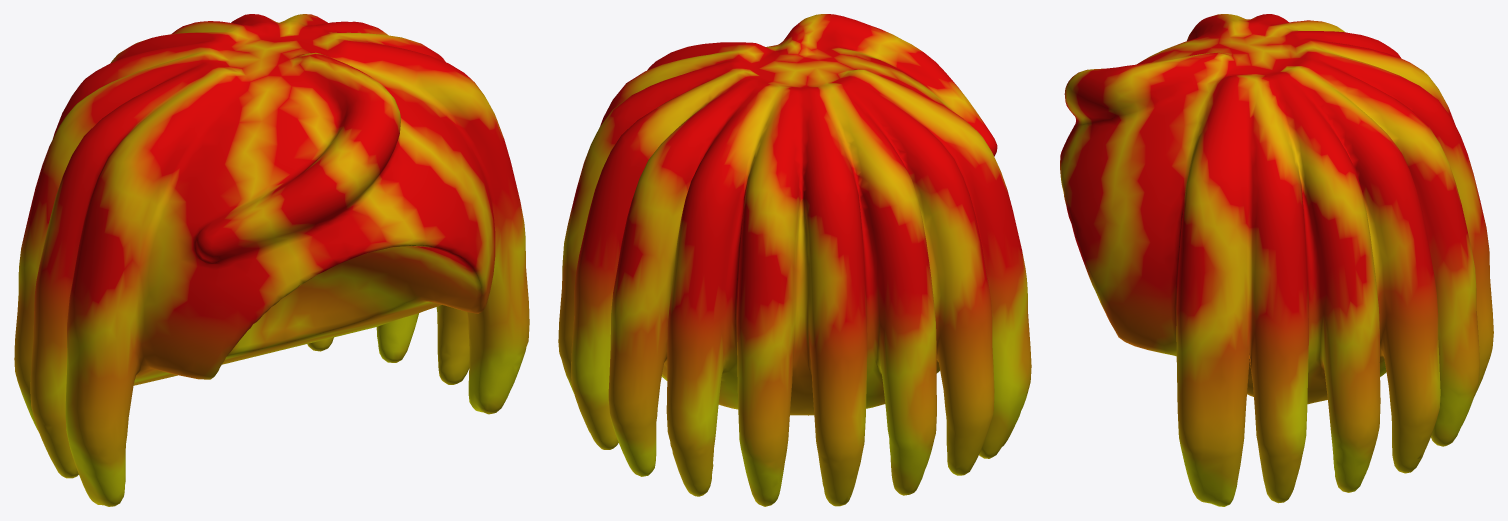
The model's file is bob.glb.
3 renders of one model, left to right at view 1: azimuth 30°, elevation 25°; view 2: azimuth 150°, elevation 25°; view 3: azimuth 270°, elevation 25°, orthographic. The views are drawn at different scales.
Visible parts, largest first — view 1: part; view 2: part; view 3: part.
Boxes of the visible parts, box(x1,y1,x2,y2) form: part: box(14, 14, 529, 506); part: box(558, 14, 1031, 506); part: box(1060, 14, 1493, 506).
Size of the model in its own units: 2.64 by 2.23 by 2.35.
